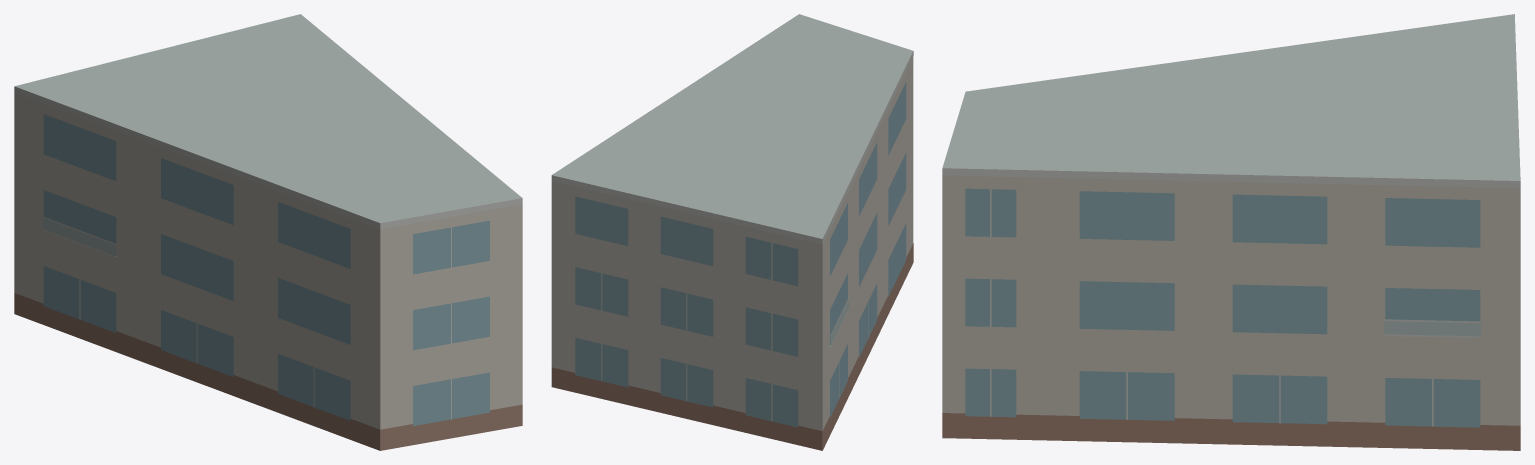
File: survey-upis-32518496.glb
The picture shows the model from 3 angles, left to right: view 1: azimuth 30°, elevation 25°; view 2: azimuth 150°, elevation 25°; view 3: azimuth 270°, elevation 25°; orthographic projection. The views are drawn at different scales.
Visible parts, largest first — view 1: survey-upis-32518496.tmp; view 2: survey-upis-32518496.tmp; view 3: survey-upis-32518496.tmp.
Part boxes in pixels (x1,y1,x2,y2): survey-upis-32518496.tmp: (14,14,522,450); survey-upis-32518496.tmp: (551,14,913,450); survey-upis-32518496.tmp: (942,14,1520,450).
Size of the model in its own units: 12.16 by 9.15 by 17.78.
